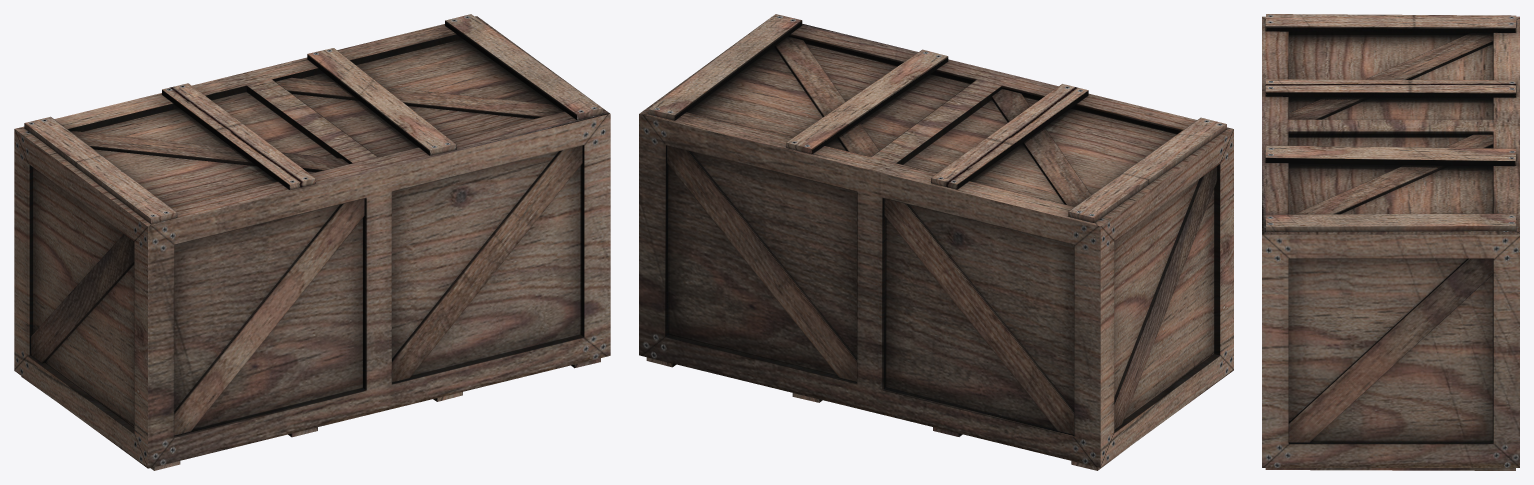
3 views of the same model, side by side, from view 1: azimuth 30°, elevation 25°; view 2: azimuth 150°, elevation 25°; view 3: azimuth 270°, elevation 25° (orthographic). The views are drawn at different scales.
Parts seen in each view (by area): view 1: box_6; view 2: box_6; view 3: box_6.
Part boxes in pixels (left/top/right/bottom): box_6: left=14, top=14, right=610, bottom=470; box_6: left=639, top=14, right=1233, bottom=470; box_6: left=1262, top=14, right=1519, bottom=470.
Size of the model in its own units: 1.2 by 0.627 by 0.6.
